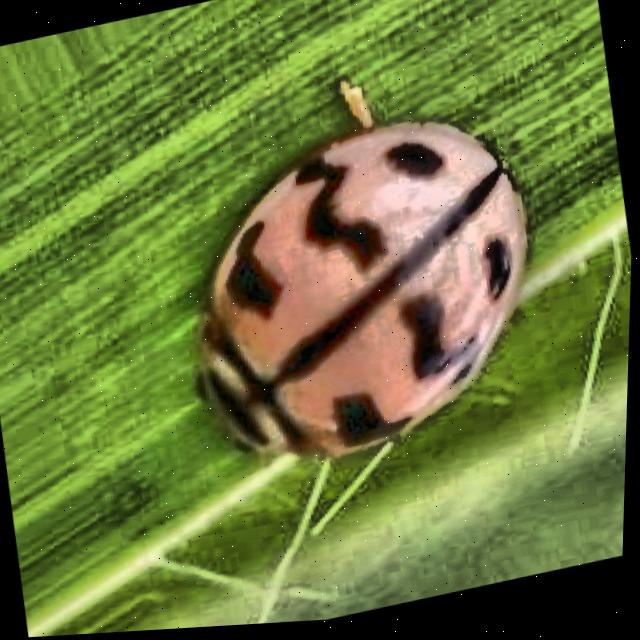Asian-Lady-beetle: (121, 51, 612, 524)
